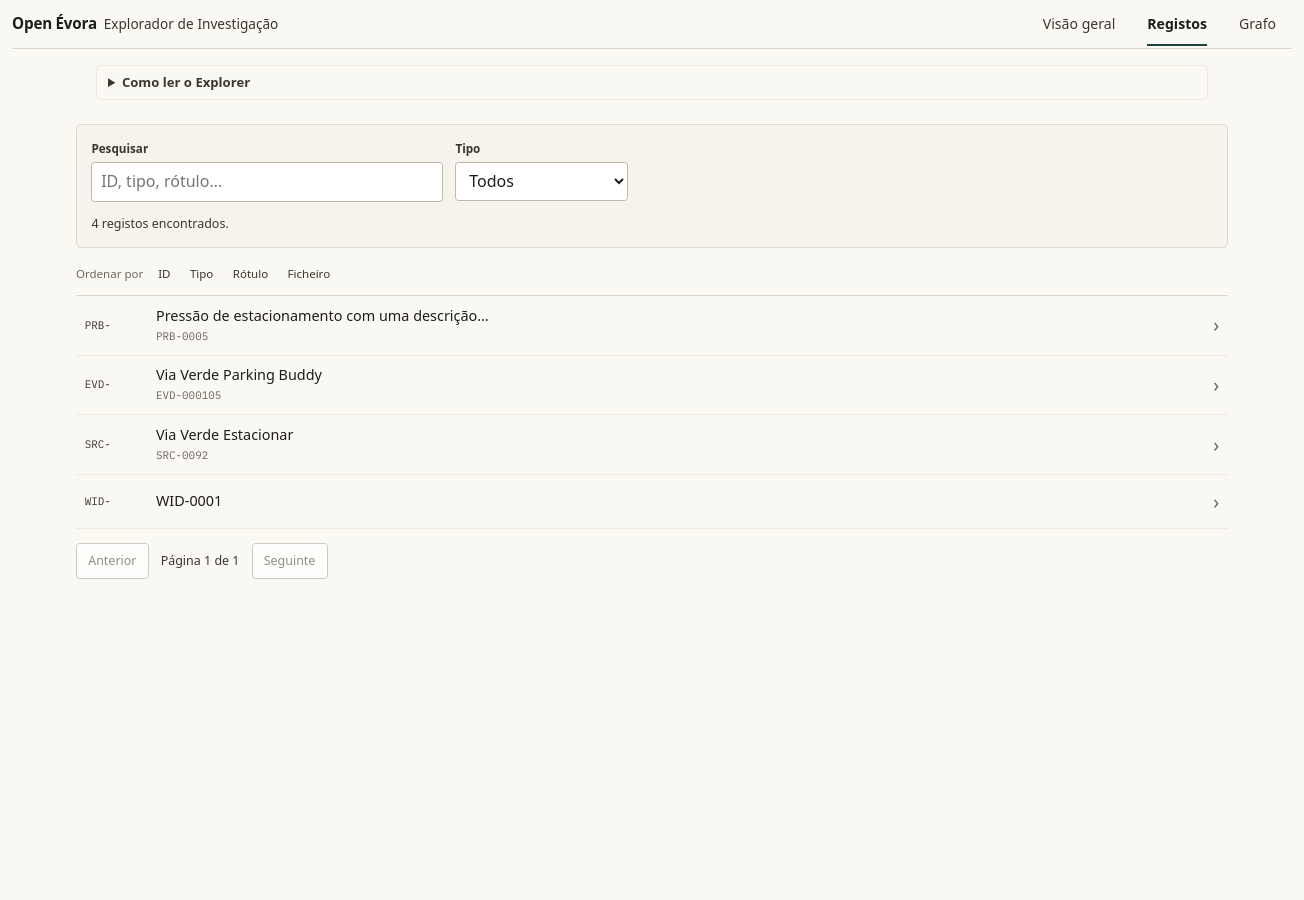
Test: Explorer — Records workflow (fake provider) › resolves incoming relationships to related summary labels from the index
The width and height of the screenshot is (1304, 900).
Step 1. Click the button "PRB- Pressão de estacionamento com uma descrição… PRB-0005 ›" → (322, 315), box [76,296,1228,356]
(page scrolled)
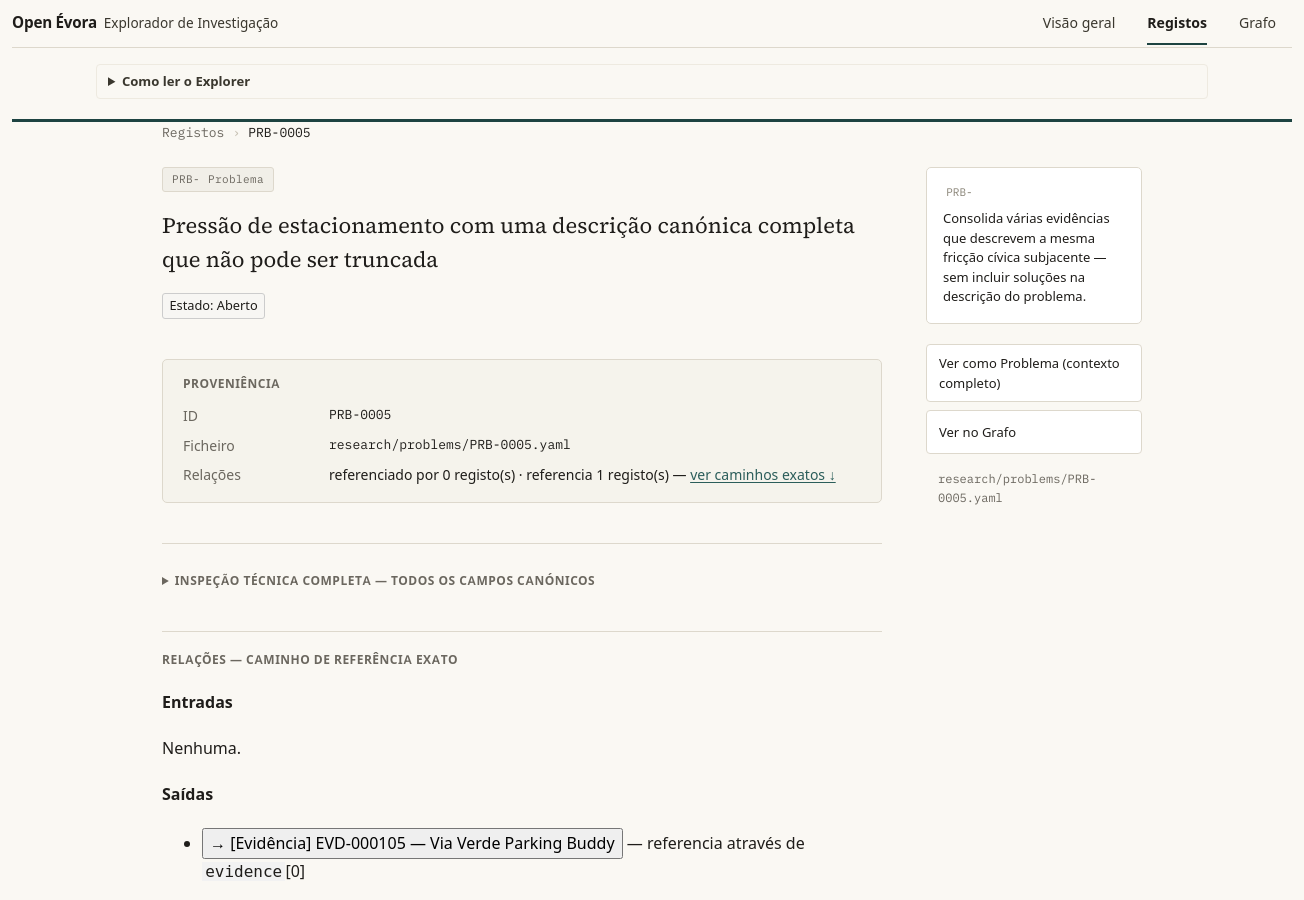
Step 2. Click the button "→ [Evidência] EVD-000105 — Via Verde Parking Buddy" → (412, 843), box [202,828,622,859]
(page scrolled)
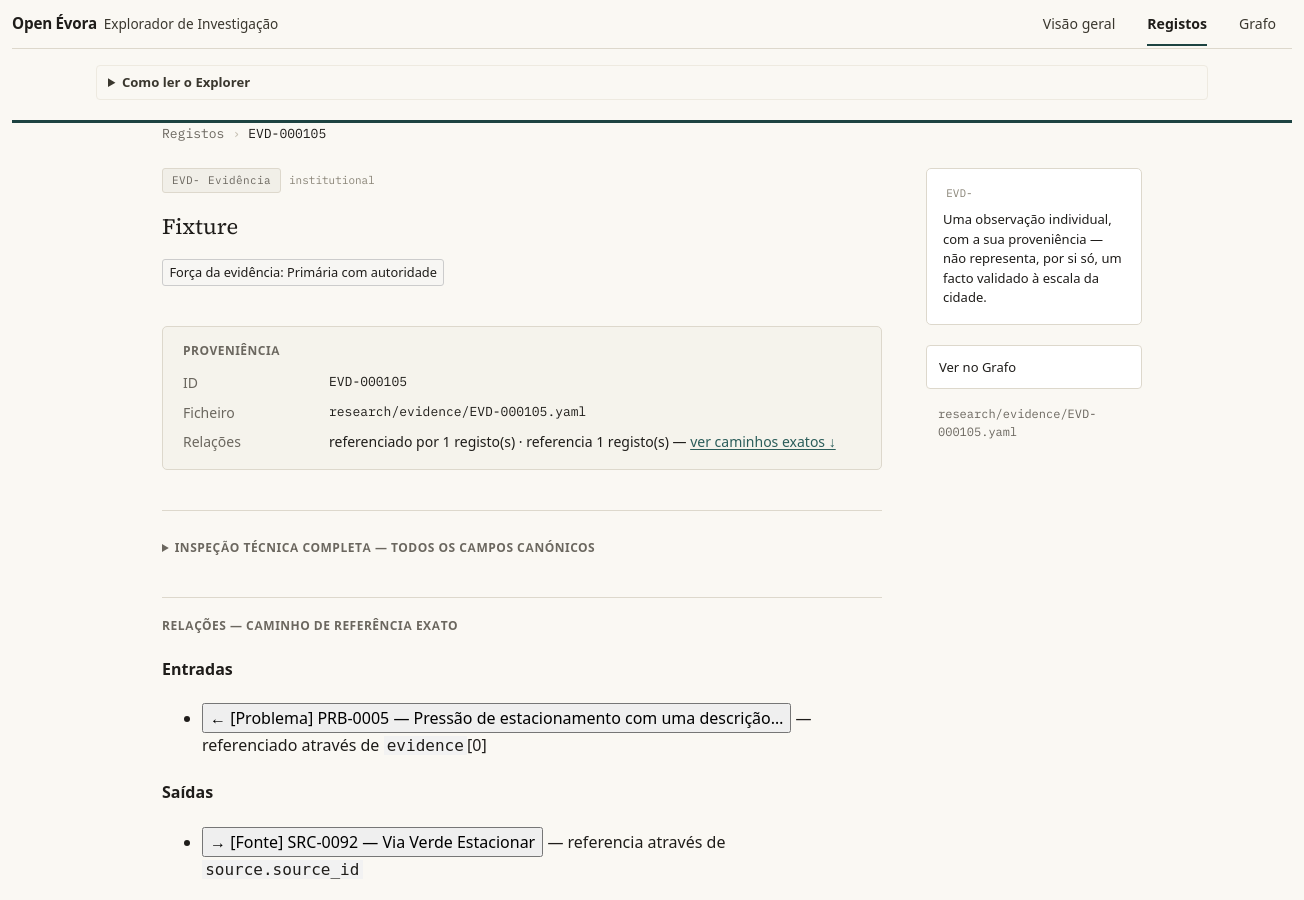
Now the button "PRB-0005 — Pressão de estacionamento" is shown, box [202,703,791,733]
Now the text "— referenciado através de evidence[0]" is shown, box [202,707,812,756]
